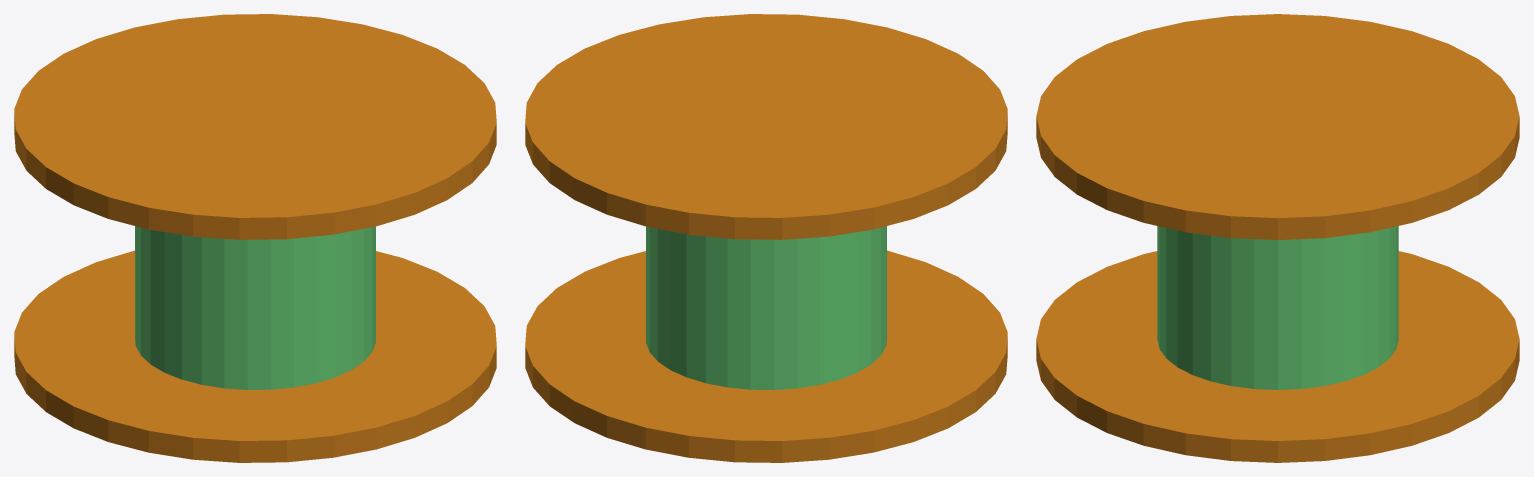
The model's file is bobina2.fbx.
3 renders of one model, left to right at view 1: azimuth 30°, elevation 25°; view 2: azimuth 150°, elevation 25°; view 3: azimuth 270°, elevation 25°, orthographic.
Parts seen in each view (by area): view 1: Cylinder.001, Cylinder.002, Cylinder; view 2: Cylinder.001, Cylinder.002, Cylinder; view 3: Cylinder.001, Cylinder.002, Cylinder.
Boxes of the visible parts, x1,y1,x2,y2 form: Cylinder.001: [14, 14, 496, 239]; Cylinder.002: [14, 250, 496, 462]; Cylinder: [135, 226, 375, 389]; Cylinder.001: [525, 14, 1007, 239]; Cylinder.002: [525, 250, 1007, 462]; Cylinder: [646, 226, 886, 389]; Cylinder.001: [1036, 14, 1519, 239]; Cylinder.002: [1036, 251, 1519, 462]; Cylinder: [1157, 226, 1398, 389].
Size of the model in its own units: 400 by 224 by 400.
